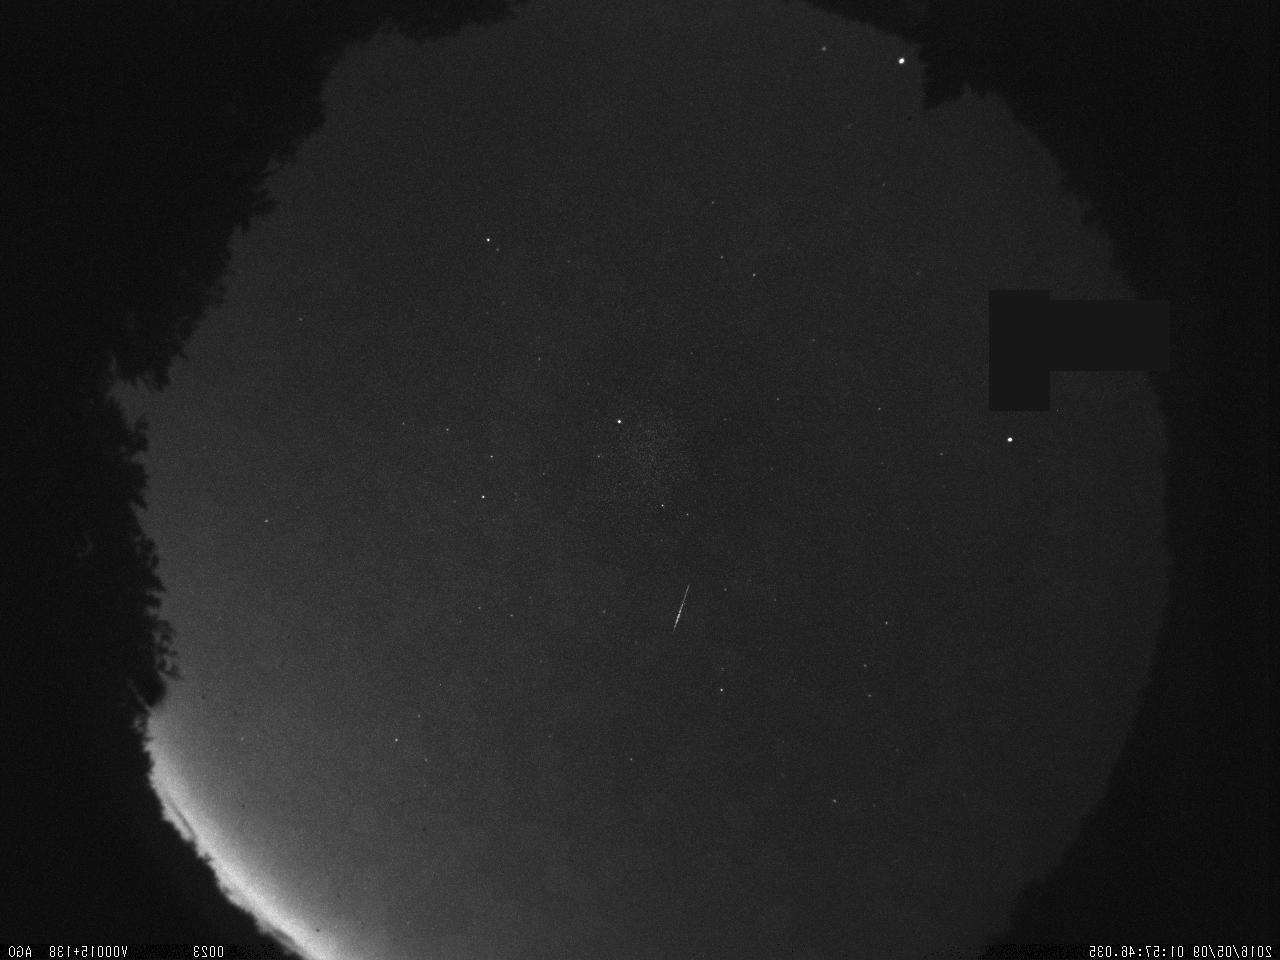meteor: (659, 574, 699, 634)
